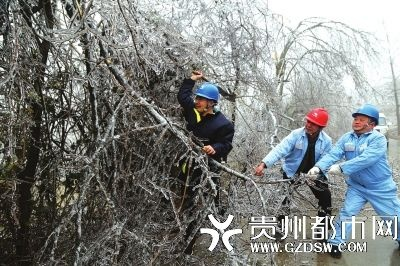blue: (192, 81, 220, 113), (351, 103, 379, 133)
red: (303, 107, 328, 135)
